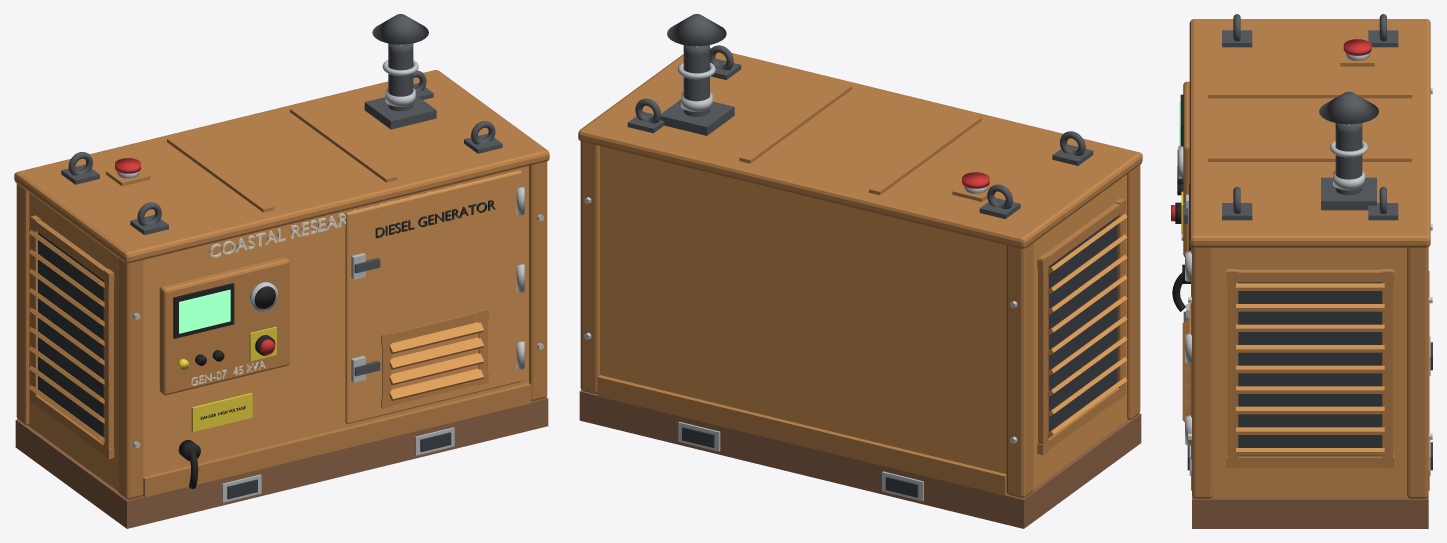
File: backup-generator.glb
3 views of the same model, side by side, from view 1: azimuth 30°, elevation 25°; view 2: azimuth 150°, elevation 25°; view 3: azimuth 270°, elevation 25° (orthographic). The views are drawn at different scales.
Parts seen in each view (by area): view 1: Roof, Body, Door, PanelBox, Skid_RailF, TrimF, VentL_Back, CornerPost_3, CornerPost_1, Skid_EndL, CornerPost_2, VentL_FrL (+19 smaller); view 2: Body, Roof, Skid_RailB, TrimB, VentL_Back, CornerPost_2, CornerPost_0, Skid_EndL, CornerPost_3, VentL_FrR, RoofRib_0, RoofRib_1 (+7 smaller); view 3: Roof, VentR_Back, Body, Skid_EndR, CornerPost_0, CornerPost_1, VentR_FrL, VentR_FrT, VentR_FrR, VentR_FrB, RoofRib_0, RoofRib_1 (+24 smaller).
Boxes of the visible parts, x1,y1,x2,y2 form: Roof: (14,70,549,263); Body: (28,166,528,490); Door: (345,170,521,423); PanelBox: (159,257,289,395); Skid_RailF: (115,399,548,528); TrimF: (143,383,531,497); VentL_Back: (38,232,103,442); CornerPost_3: (118,258,143,499); CornerPost_1: (529,161,547,400); Skid_EndL: (19,421,147,528); CornerPost_2: (16,184,29,425); VentL_FrL: (103,268,113,459); Body: (600,146,1127,488); Roof: (578,47,1142,248); Skid_RailB: (579,393,1036,528); TrimB: (597,375,1006,495); VentL_Back: (1048,216,1117,437); CornerPost_2: (1006,243,1033,497); CornerPost_0: (580,141,599,394); Skid_EndL: (1001,421,1138,528); CornerPost_3: (1127,165,1140,419); VentL_FrR: (1038,254,1048,455); RoofRib_0: (869,115,981,195); RoofRib_1: (739,83,851,163); Roof: (1189,19,1430,247); VentR_Back: (1238,282,1382,456); Body: (1212,247,1407,497); Skid_EndR: (1192,498,1428,528); CornerPost_0: (1407,247,1428,498); CornerPost_1: (1192,247,1213,498); VentR_FrL: (1227,269,1238,468); VentR_FrT: (1226,269,1394,282); VentR_FrR: (1382,269,1392,468); VentR_FrB: (1226,455,1394,467); RoofRib_0: (1208,89,1412,98); RoofRib_1: (1208,153,1412,161).
Size of the model in its own units: 2 by 1.64 by 0.979.
